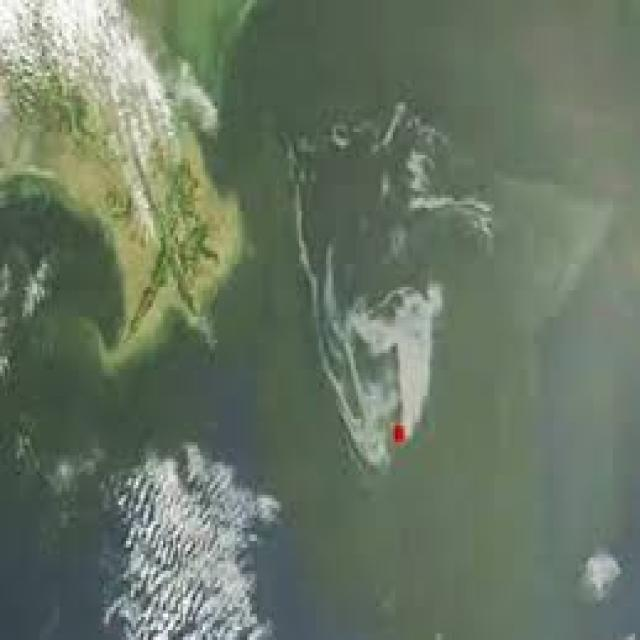algal: (18, 268, 135, 458)
oil spill: (290, 103, 506, 471)
